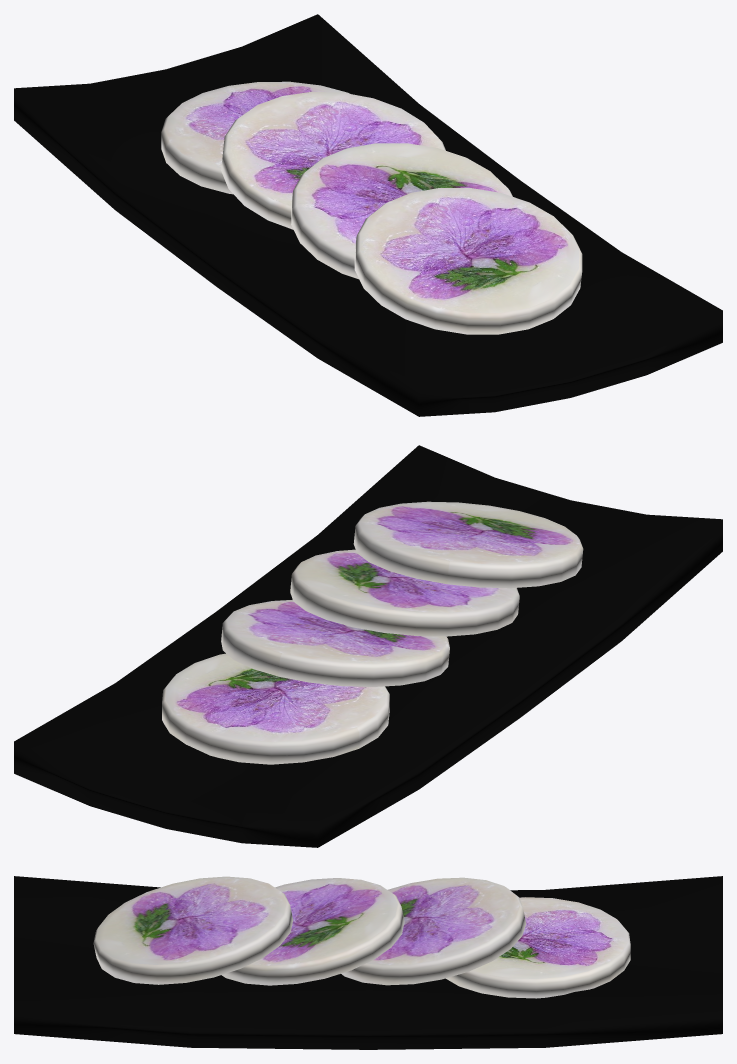
File: Hwajeon.fbx_Collection.fbx
3 views of the same model, one above another, from view 1: azimuth 30°, elevation 25°; view 2: azimuth 150°, elevation 25°; view 3: azimuth 270°, elevation 25° (orthographic). The views are drawn at different scales.
Visible parts, largest first — view 1: Cube, Cylinder.003, Cylinder.001, Cylinder.002, Cylinder; view 2: Cube, Cylinder, Cylinder.003, Cylinder.001, Cylinder.002; view 3: Cube, Cylinder.003, Cylinder.001, Cylinder.002, Cylinder.
Boxes of the visible parts, x1,y1,x2,y2 form: Cube: (14,14,722,416); Cylinder.003: (354,188,582,334); Cylinder.001: (221,91,445,229); Cylinder.002: (291,143,512,279); Cylinder: (161,81,349,194); Cube: (14,445,722,847); Cylinder: (162,653,389,764); Cylinder.003: (353,501,583,588); Cylinder.001: (221,599,449,686); Cylinder.002: (290,549,519,636); Cube: (14,876,722,1049); Cylinder.003: (93,876,293,984); Cylinder.001: (341,877,526,985); Cylinder.002: (221,878,404,985); Cylinder: (446,897,630,998).
Bounding box in the file's own units: 22.43 × 6.5 × 51.76.
Materials: 5 (4 with a texture image).
